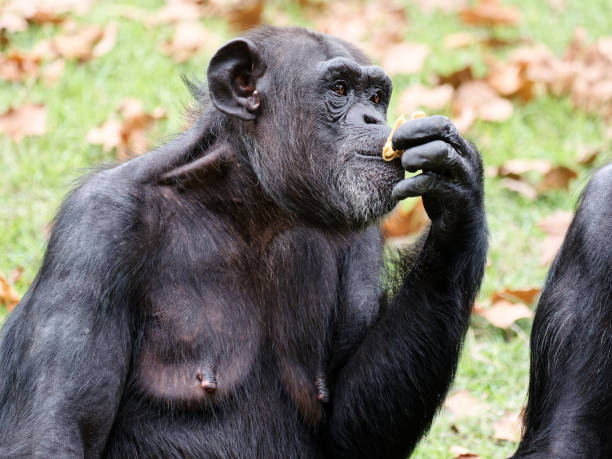chimpanzee: (188, 19, 430, 238)
